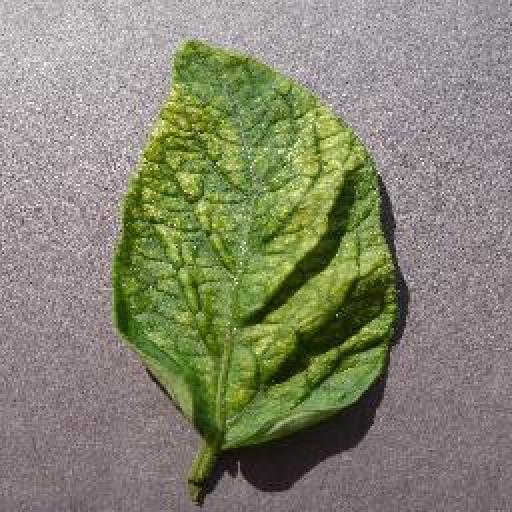disease_tomato: (112, 40, 403, 451)
